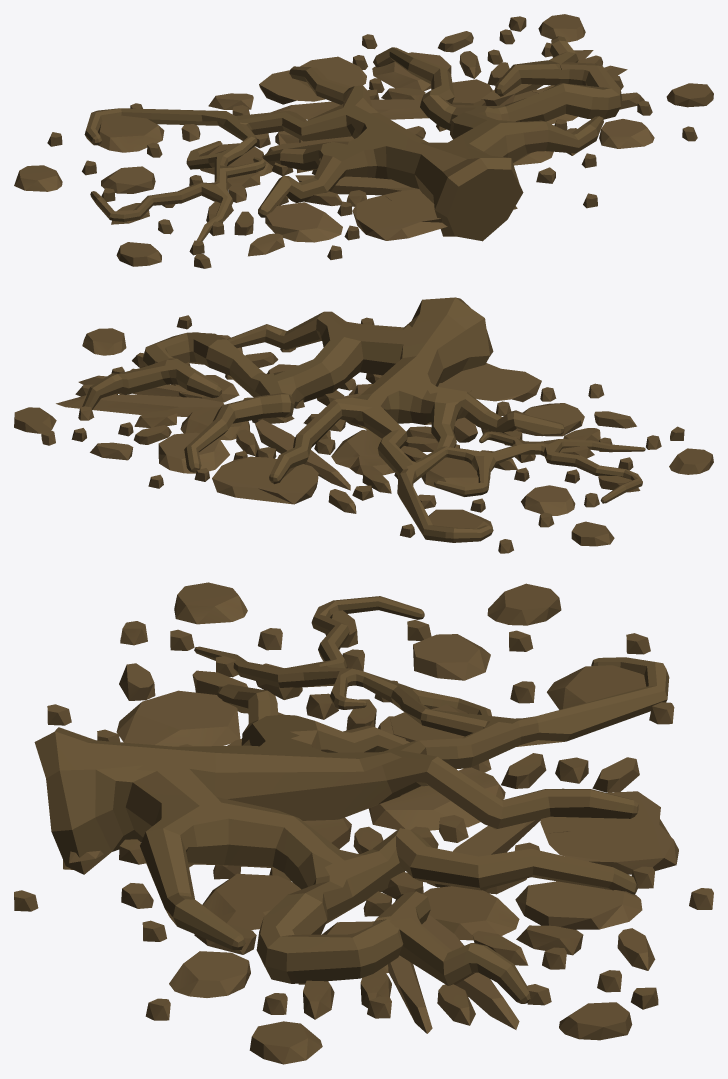
Rendered from EA_Swamp_Dirt_Root_04c.glb.
3 renders of one model, top to bottom at view 1: azimuth 30°, elevation 25°; view 2: azimuth 150°, elevation 25°; view 3: azimuth 270°, elevation 25°, orthographic. The views are drawn at different scales.
Parts seen in each view (by area): view 1: EA_Swamp_Dirt_Root_04c; view 2: EA_Swamp_Dirt_Root_04c; view 3: EA_Swamp_Dirt_Root_04c.
Part boxes in pixels (x1,y1,x2,y2): EA_Swamp_Dirt_Root_04c: [14, 14, 713, 268]; EA_Swamp_Dirt_Root_04c: [14, 297, 713, 553]; EA_Swamp_Dirt_Root_04c: [14, 582, 713, 1064].
Bounding box in the file's own units: 9.29 × 1.25 × 5.84.
1 material, 1 textured.
